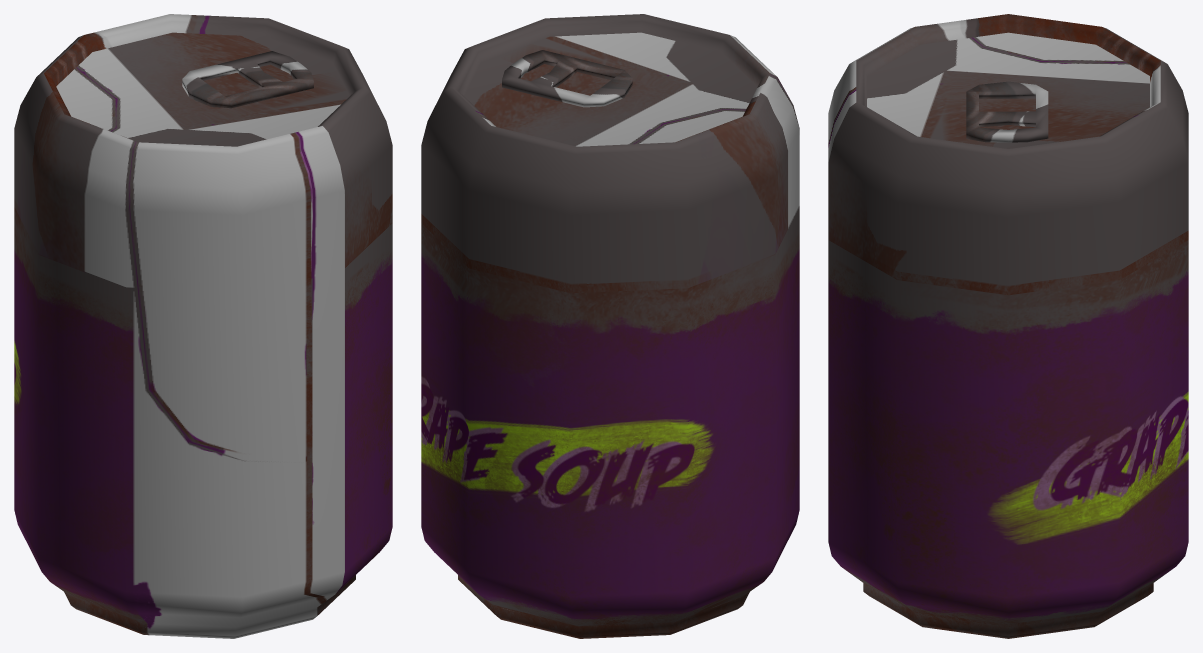
File: TinCan1_noTex.obj
3 renders of one model, left to right at view 1: azimuth 30°, elevation 25°; view 2: azimuth 150°, elevation 25°; view 3: azimuth 270°, elevation 25°, orthographic.
Parts seen in each view (by area): view 1: pCylinder3; view 2: pCylinder3; view 3: pCylinder3.
Part boxes in pixels (x1=…): pCylinder3: x1=14, y1=14, x2=392, y2=638; pCylinder3: x1=421, y1=14, x2=799, y2=638; pCylinder3: x1=828, y1=14, x2=1188, y2=638.
Bounding box in the file's own units: 2 × 2.89 × 1.9.
